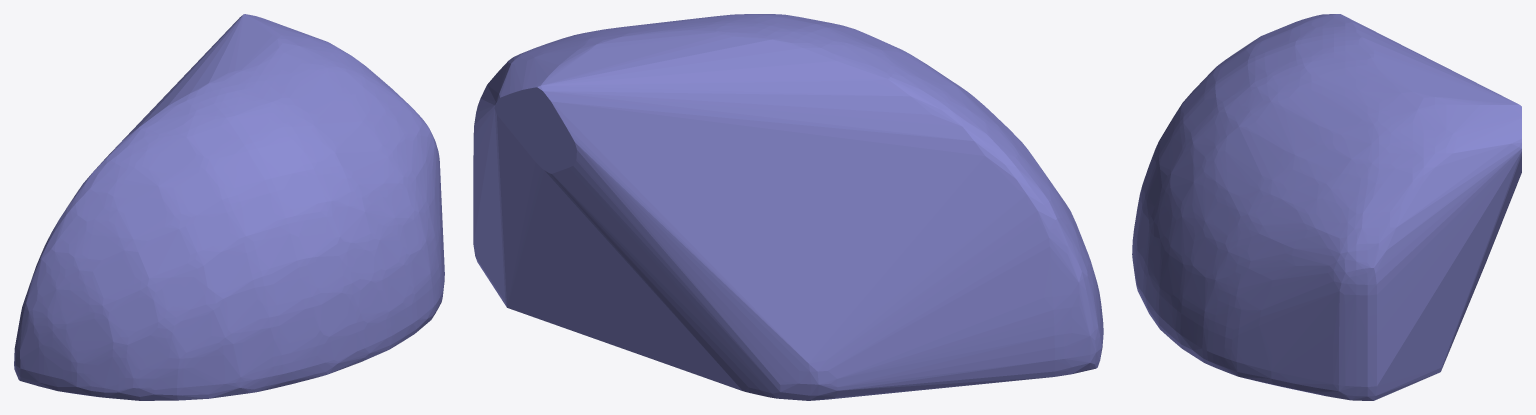
The model's file is torso_link_part_12.obj.
The picture shows the model from 3 angles, left to right: view 1: azimuth 30°, elevation 25°; view 2: azimuth 150°, elevation 25°; view 3: azimuth 270°, elevation 25°; orthographic projection. The views are drawn at different scales.
Bounding box in the file's own units: 0.1591 × 0.0758 × 0.109.
